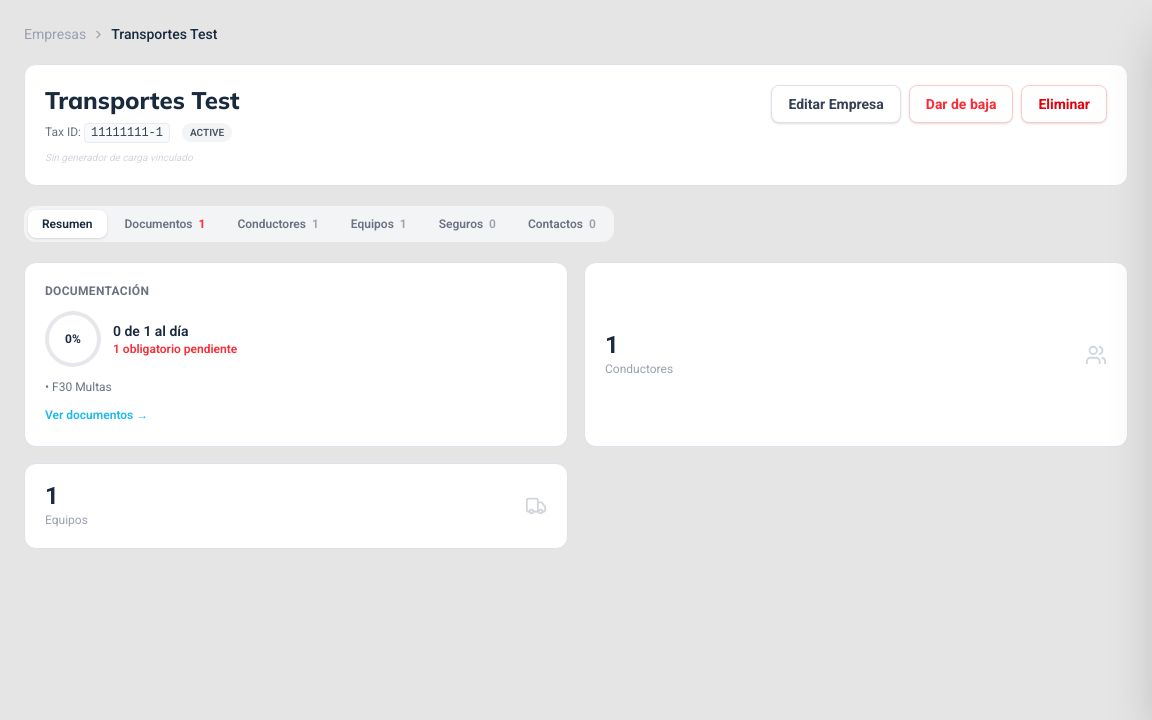
EmpresaDetailPage › shows an error if exporting documents fails
The width and height of the screenshot is (1152, 720).
Click the button "Documentos1". click: (165, 224)
box: [110, 210, 219, 238]
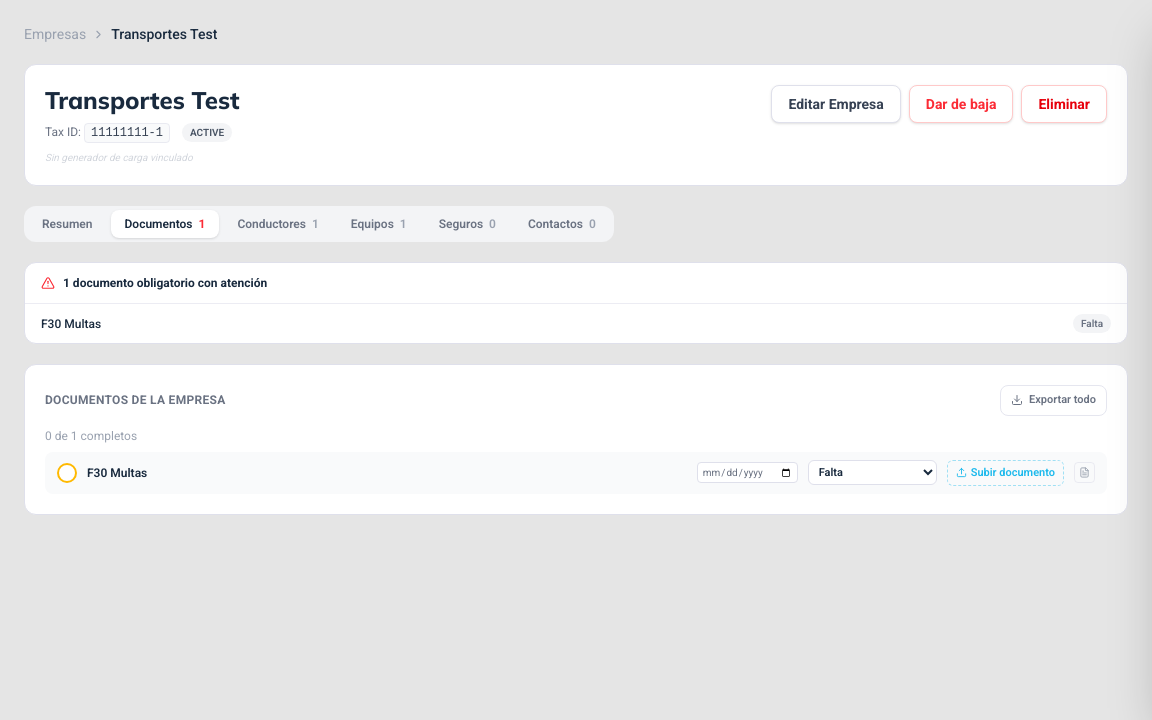
Click the button "Exportar todo". click: (1054, 400)
box: [1000, 385, 1107, 416]
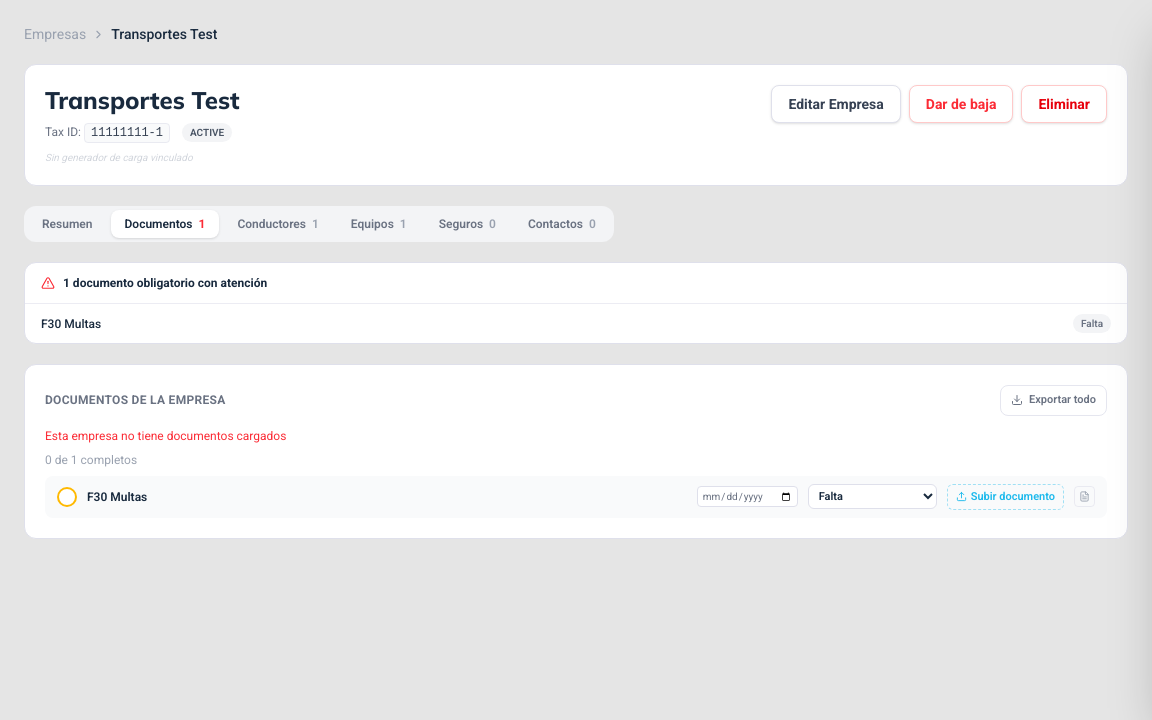
Expected: the text "Esta empresa no tiene documentos cargados" is shown, [45, 428, 286, 442]
